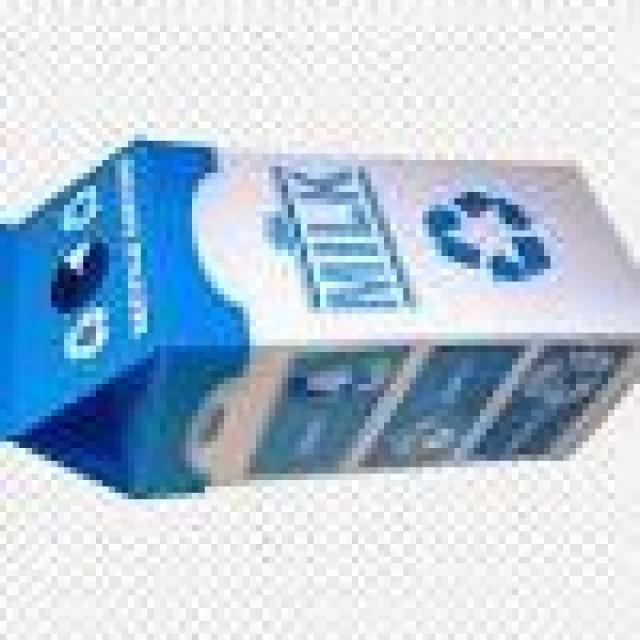non_white_jug: (0, 136, 640, 486)
